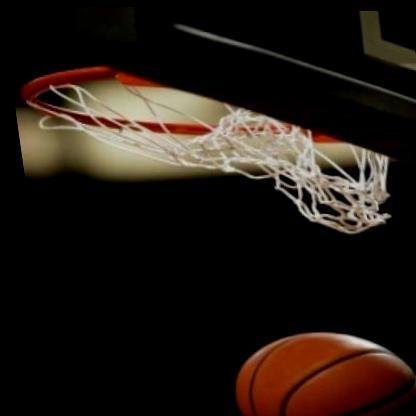basketball: (207, 317, 416, 416)
